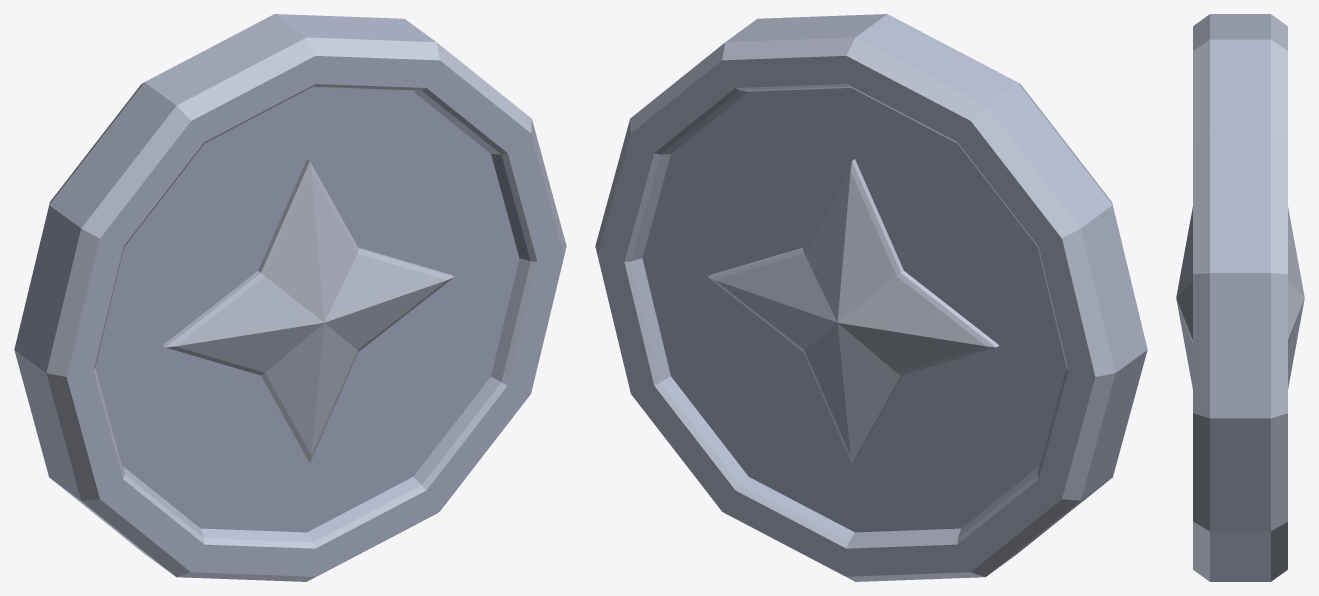
File: silver-coin-64ab27.glb
The picture shows the model from 3 angles, left to right: view 1: azimuth 30°, elevation 25°; view 2: azimuth 150°, elevation 25°; view 3: azimuth 270°, elevation 25°; orthographic projection. The views are drawn at different scales.
Parts seen in each view (by area): view 1: silver-coin-body; view 2: silver-coin-body; view 3: silver-coin-body.
Boxes of the visible parts, x1,y1,x2,y2 form: silver-coin-body: [14, 14, 566, 581]; silver-coin-body: [595, 14, 1147, 581]; silver-coin-body: [1176, 14, 1304, 581].
Bounding box in the file's own units: 0.06 × 0.06 × 0.0135.
